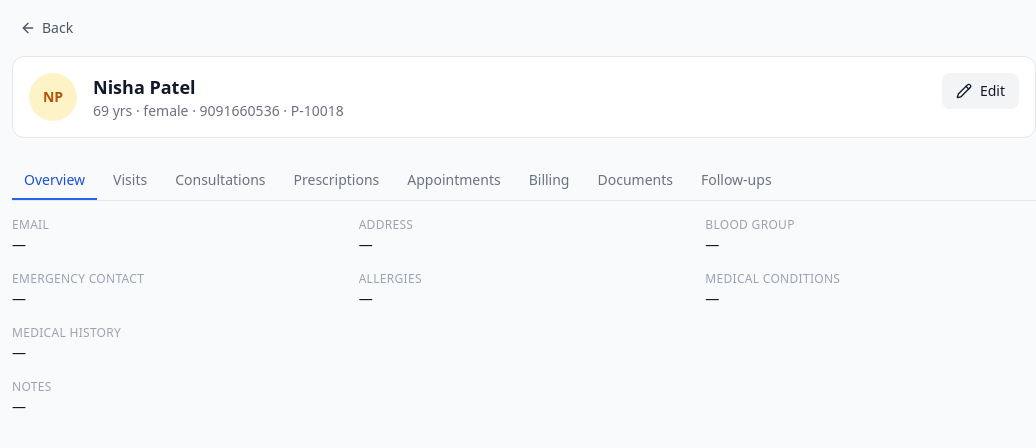
Scenario: Patient profile - Visits tab › says so when there are no visits yet
Click the tab "Visits": (130, 181) [101,162,159,200]
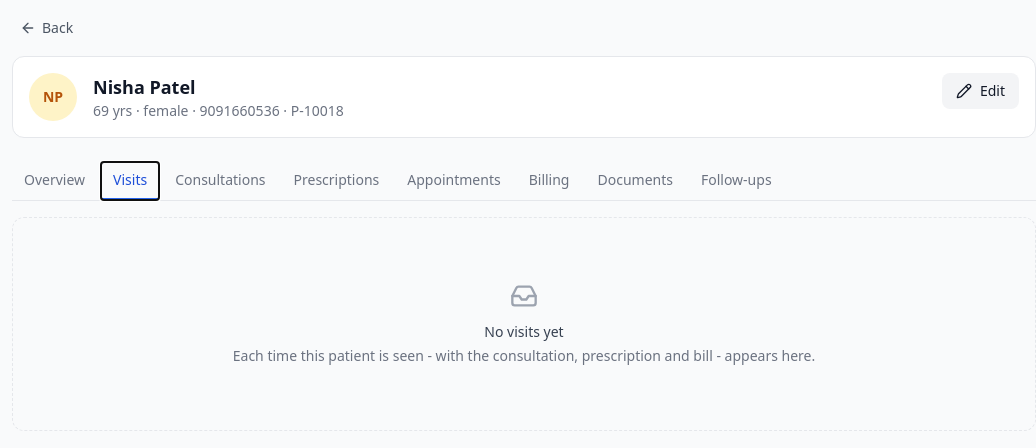
Expected: the text "No visits yet" is shown, [484,322,564,341]
